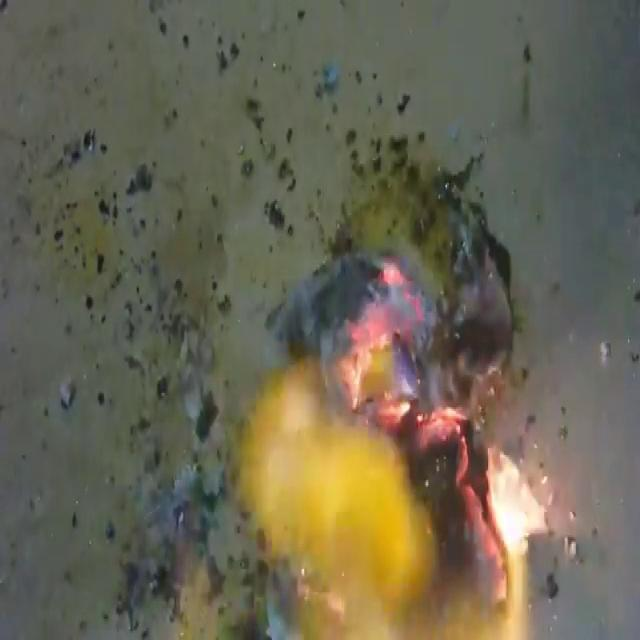Fire: (123, 45, 588, 640)
